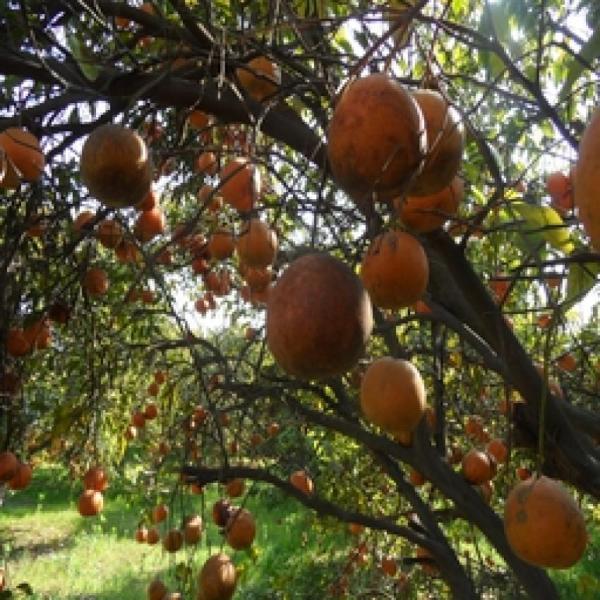Canker: (263, 252, 371, 384), (323, 77, 426, 198), (496, 478, 592, 576), (357, 226, 439, 318), (403, 78, 465, 194), (78, 124, 157, 208), (569, 97, 600, 261), (393, 179, 464, 236)
Sana: (356, 358, 431, 441)
